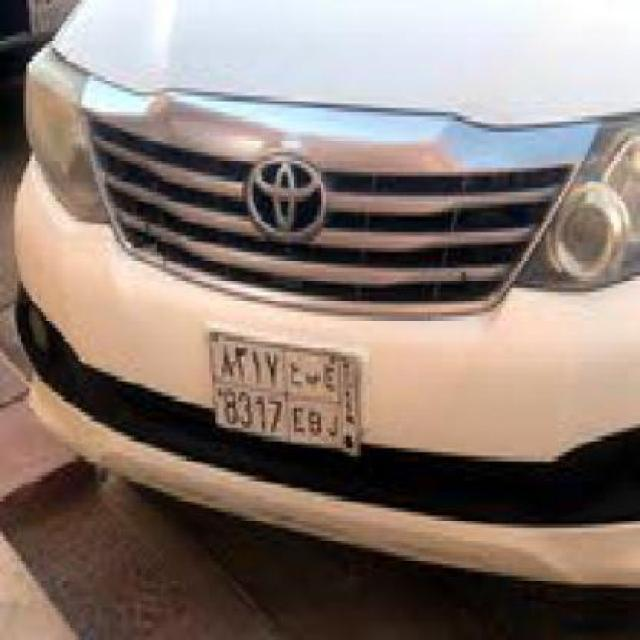license_plate: (209, 324, 366, 460)
